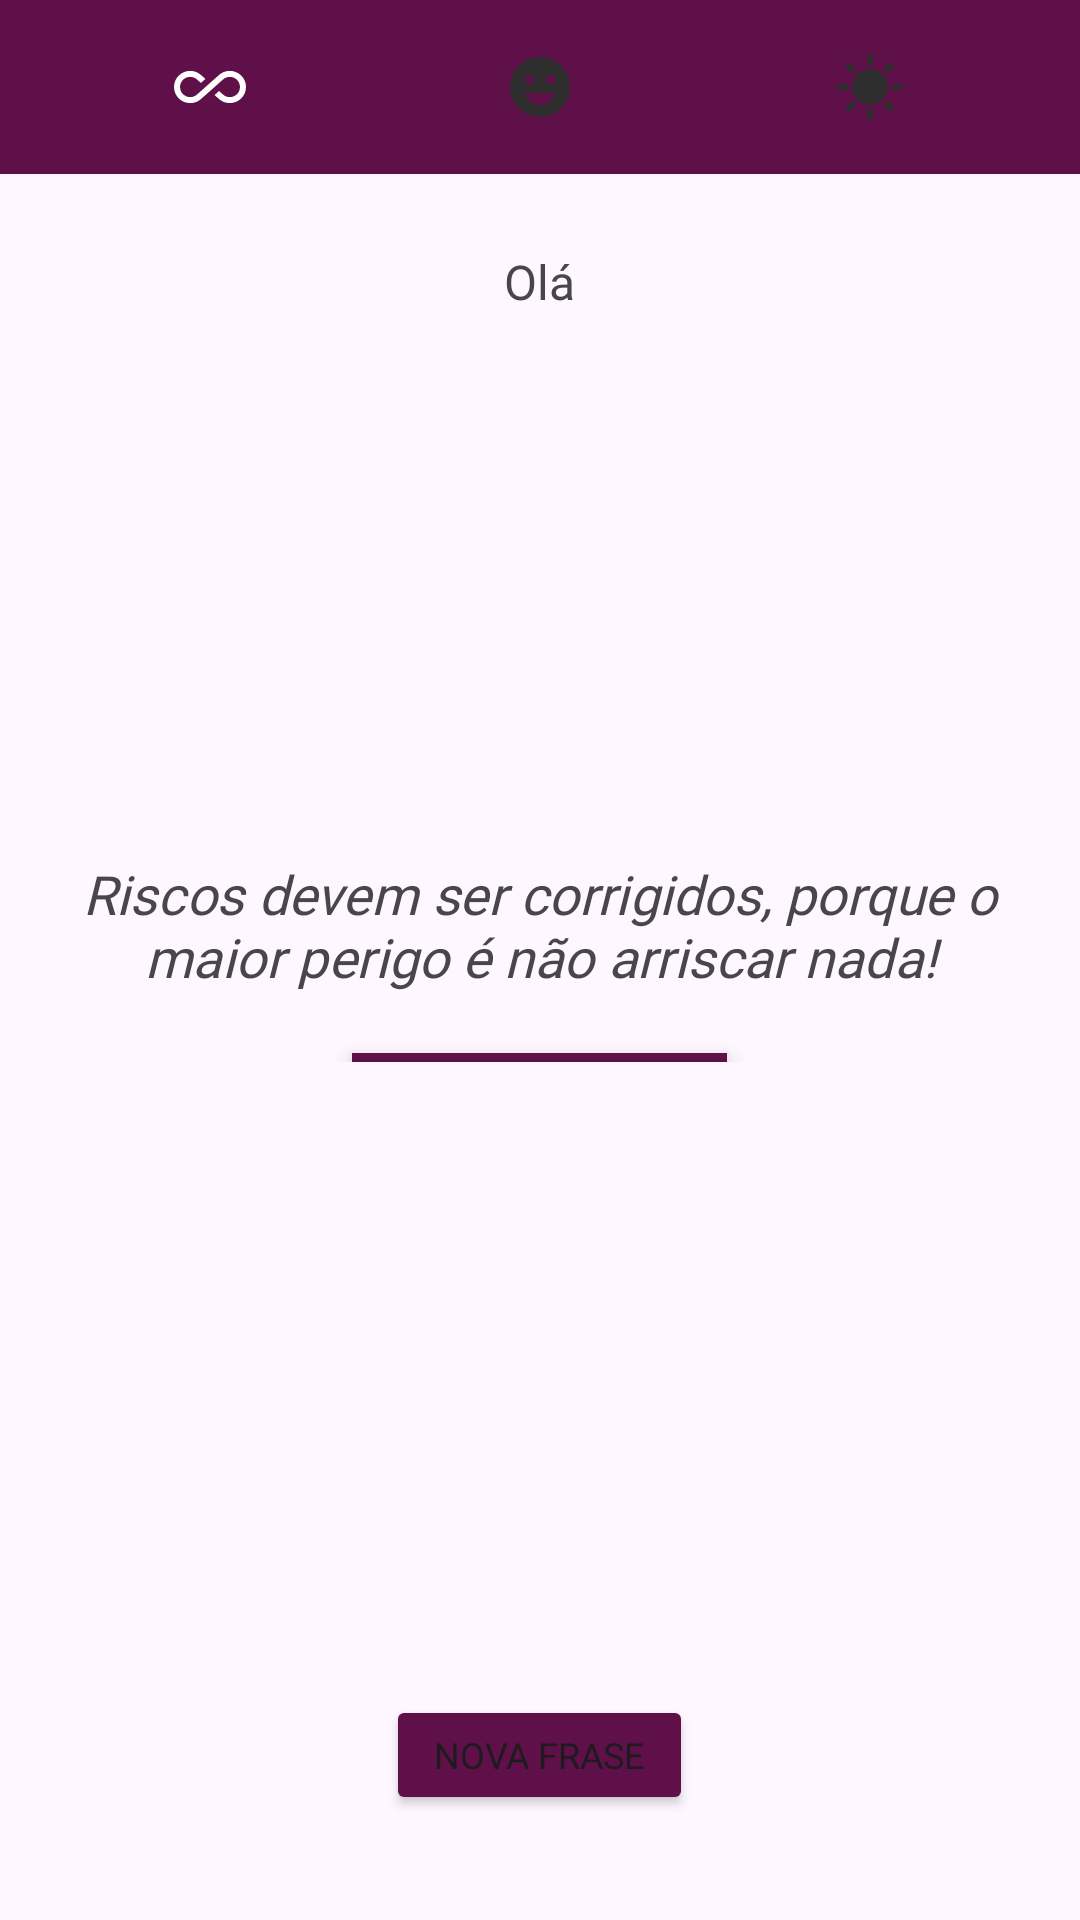

Point at icon controls on the screen. Image size 1080w x 1920h, points as point (x, y).
all inclusive: point (210, 87)
emoji happy: point (540, 87)
sunny: point (870, 87)
